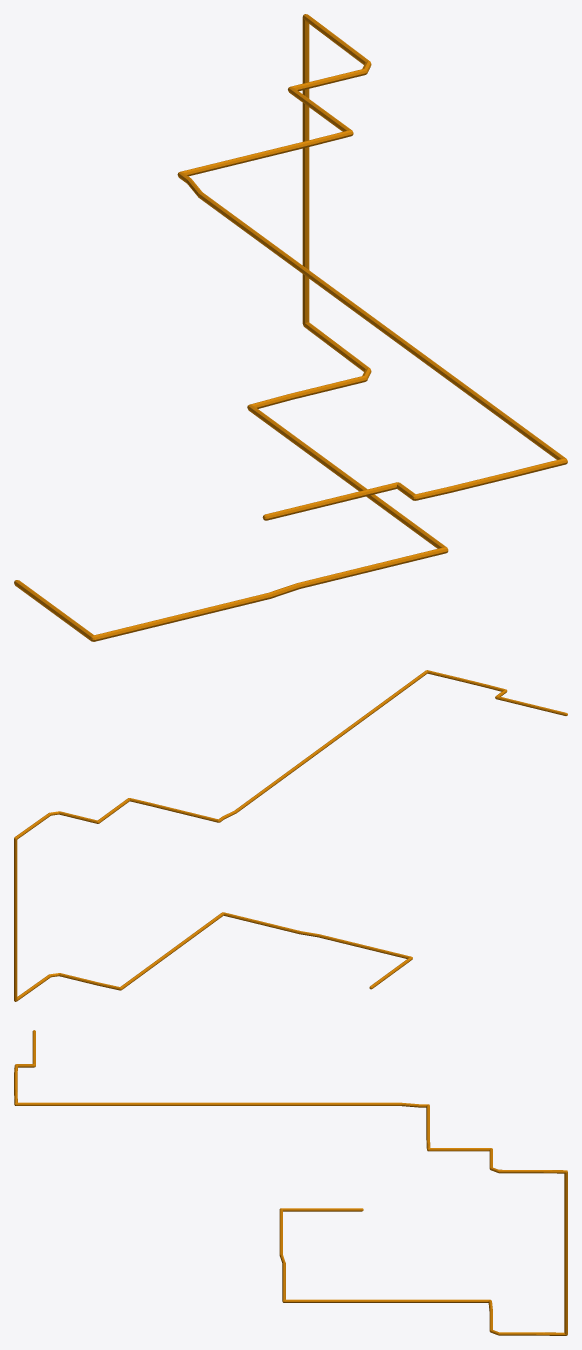
3 views of the same model, one above another, from view 1: azimuth 30°, elevation 25°; view 2: azimuth 150°, elevation 25°; view 3: azimuth 270°, elevation 25° (orthographic). The views are drawn at different scales.
Bounding box in the file's own units: 1870 × 1020 × 3092.
